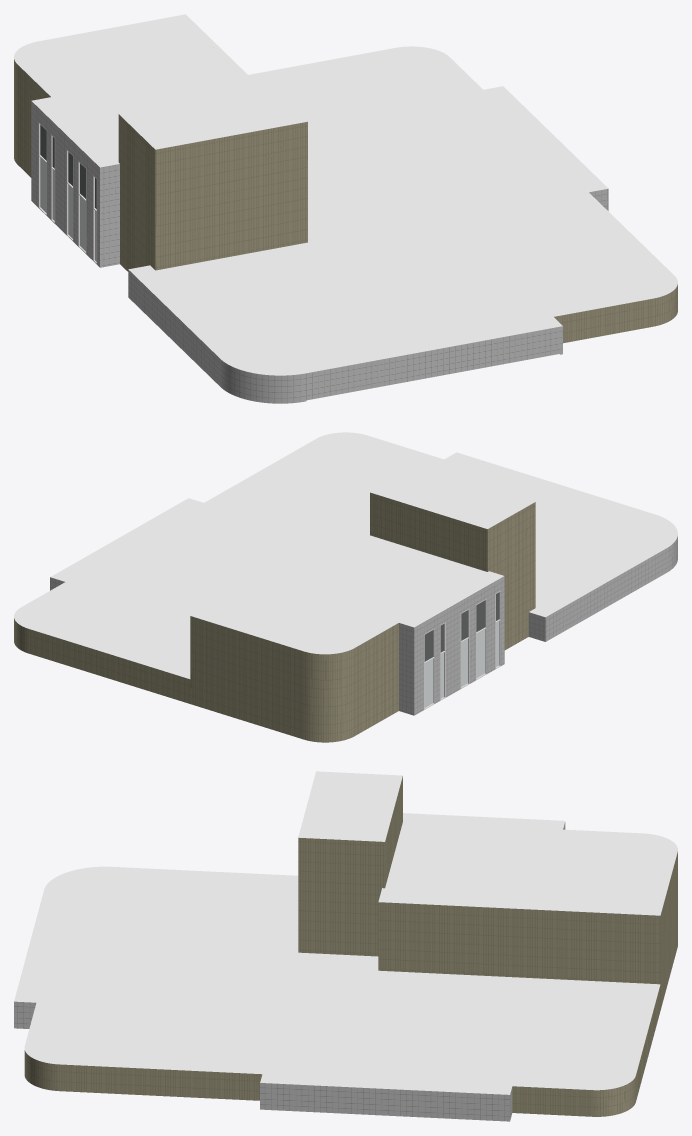
3 renders of one model, top to bottom at view 1: azimuth 30°, elevation 25°; view 2: azimuth 150°, elevation 25°; view 3: azimuth 270°, elevation 25°, orthographic. The views are drawn at different scales.
Visible parts, largest first — view 1: Obj_rF_24, Obj_rF_20, Obj_rF_28, Obj_rF_30, Obj_rF_9, Obj_rF_25, Obj_rF, Obj_rF_33, Obj_rF_1, Obj_rF_32, Obj_rF_4, Obj_rF_31 (+7 smaller); view 2: Obj_rF_24, Obj_rF_28, Obj_rF_3, Obj_rF_9, Obj_rF_22, Obj_rF, Obj_rF_29, Obj_rF_25, Obj_rF_4, Obj_rF_33, Obj_rF_26, Obj_rF_5 (+4 smaller); view 3: Obj_rF_24, Obj_rF_28, Obj_rF_26, Obj_rF_21, Obj_rF_2, rF, Obj_rF_25, Obj_rF_3, Obj_rF_19, Obj_rF_31, Obj_rF_22, Obj_rF_30.
Part boxes in pixels (bbox=[...]): Obj_rF_24: bbox=[133, 47, 671, 374]; Obj_rF_20: bbox=[157, 121, 305, 269]; Obj_rF_28: bbox=[20, 17, 255, 165]; Obj_rF_30: bbox=[305, 314, 562, 400]; Obj_rF_9: bbox=[31, 96, 119, 267]; Obj_rF_25: bbox=[123, 88, 303, 147]; Obj_rF: bbox=[118, 113, 158, 271]; Obj_rF_33: bbox=[128, 265, 222, 386]; Obj_rF_1: bbox=[551, 296, 652, 343]; Obj_rF_32: bbox=[220, 358, 306, 403]; Obj_rF_4: bbox=[17, 63, 56, 177]; Obj_rF_31: bbox=[651, 275, 677, 326]; Obj_rF_24: bbox=[16, 434, 675, 677]; Obj_rF_28: bbox=[198, 529, 500, 651]; Obj_rF_3: bbox=[28, 615, 306, 739]; Obj_rF_9: bbox=[395, 571, 504, 715]; Obj_rF_22: bbox=[372, 492, 486, 570]; Obj_rF: bbox=[485, 501, 535, 650]; Obj_rF_29: bbox=[303, 647, 354, 742]; Obj_rF_25: bbox=[374, 466, 531, 527]; Obj_rF_4: bbox=[350, 621, 398, 735]; Obj_rF_33: bbox=[528, 547, 666, 641]; Obj_rF_26: bbox=[190, 526, 350, 705]; Obj_rF_5: bbox=[476, 599, 486, 680]; Obj_rF_24: bbox=[17, 868, 657, 1093]; Obj_rF_28: bbox=[382, 814, 671, 912]; Obj_rF_26: bbox=[378, 899, 661, 1009]; Obj_rF_21: bbox=[298, 836, 385, 956]; Obj_rF_2: bbox=[59, 1062, 592, 1116]; rF: bbox=[260, 1074, 512, 1121]; Obj_rF_25: bbox=[301, 772, 399, 840]; Obj_rF_3: bbox=[633, 851, 677, 1100]; Obj_rF_19: bbox=[592, 1075, 635, 1116]; Obj_rF_31: bbox=[24, 1046, 59, 1090]; Obj_rF_22: bbox=[382, 776, 402, 886]; Obj_rF_30: bbox=[14, 890, 46, 1028].
Size of the model in its own units: 27.49 by 7.95 by 33.79.
Materials: 7 (2 with a texture image).
